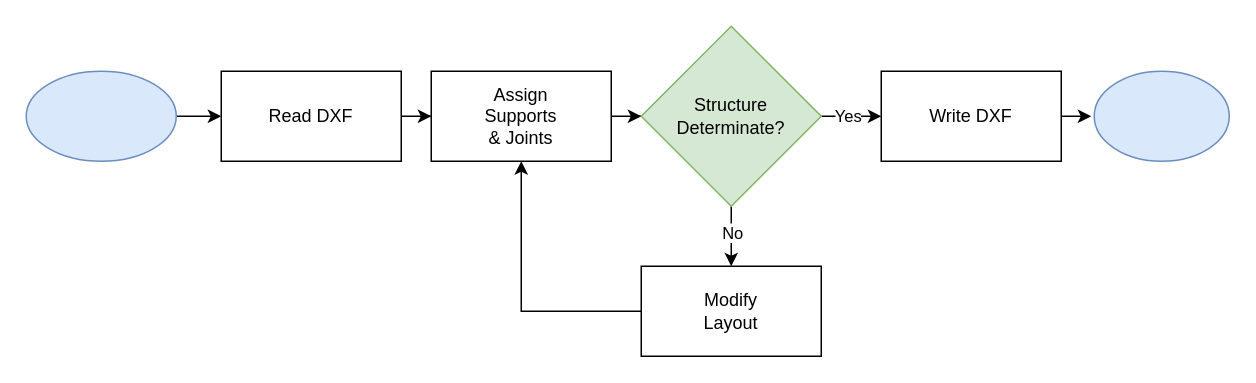
Image size: 1256x383. Some labels were removed from this diagram. Here are the shapes that lost their labels. From the top down, the centre of each, then its label:
At point (100, 115): "Start".
At point (1161, 115): "End".
